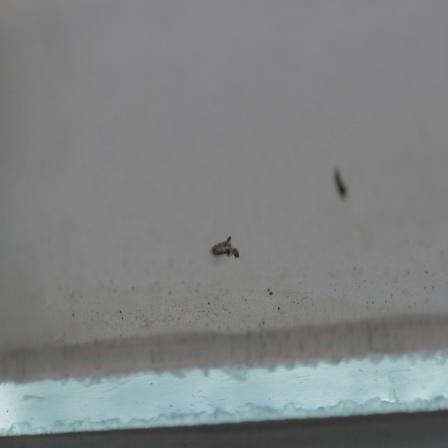Jentik-Nyamuk: (202, 232, 247, 265), (329, 163, 349, 203)
